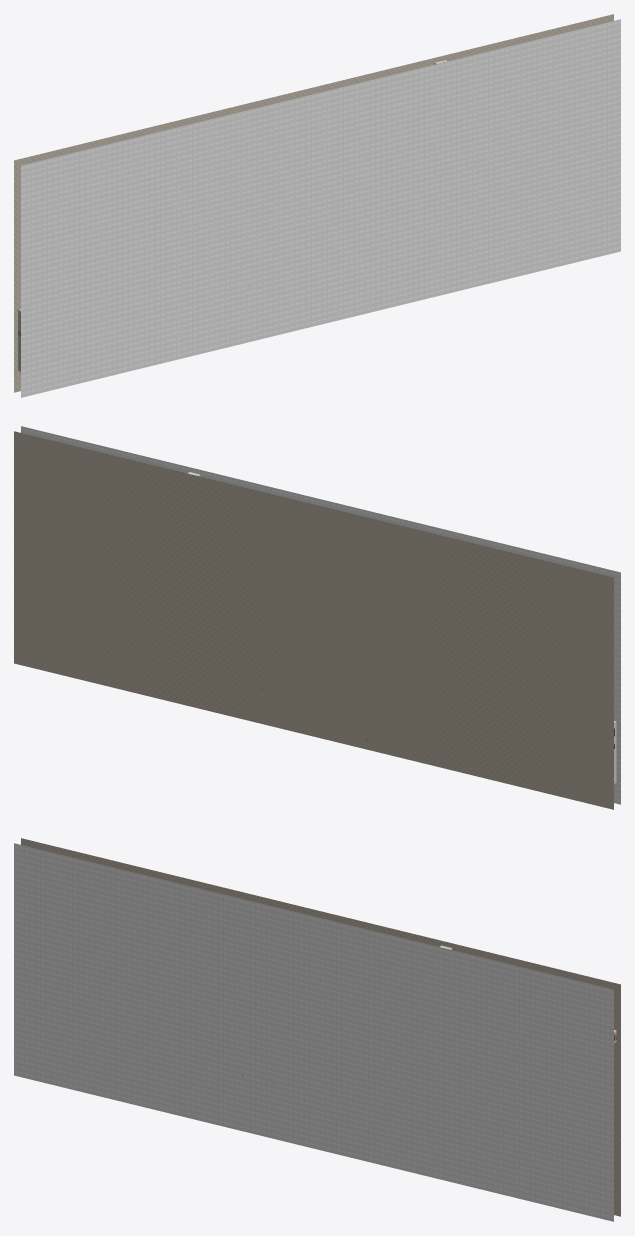
3 renders of one model, top to bottom at view 1: azimuth 30°, elevation 25°; view 2: azimuth 150°, elevation 25°; view 3: azimuth 330°, elevation 25°, orthographic.
Parts seen in each view (by area): view 1: ceiling, floor; view 2: floor, ceiling; view 3: ceiling, floor.
Part boxes in pixels (<box>): ceiling: <box>21,19,620,397</box>; floor: <box>14,14,613,392</box>; floor: <box>14,431,613,809</box>; ceiling: <box>21,426,620,804</box>; ceiling: <box>14,843,613,1221</box>; floor: <box>21,838,620,1216</box>.
Bounding box in the file's own units: 134 × 49.5 × 2.7.
Materials: 24 (10 with a texture image).
